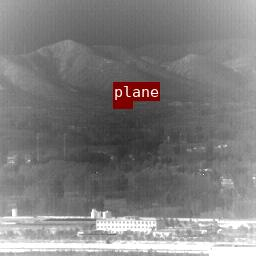plane: (113, 101, 132, 108)
